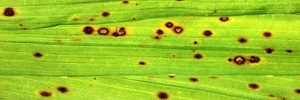RiceBrownSpot: (2, 4, 273, 49), (78, 10, 280, 45)
